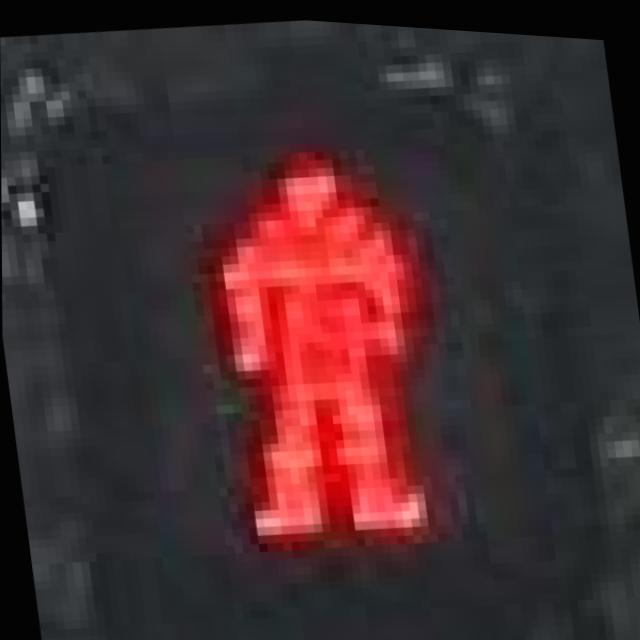red_light: (74, 79, 552, 579)
